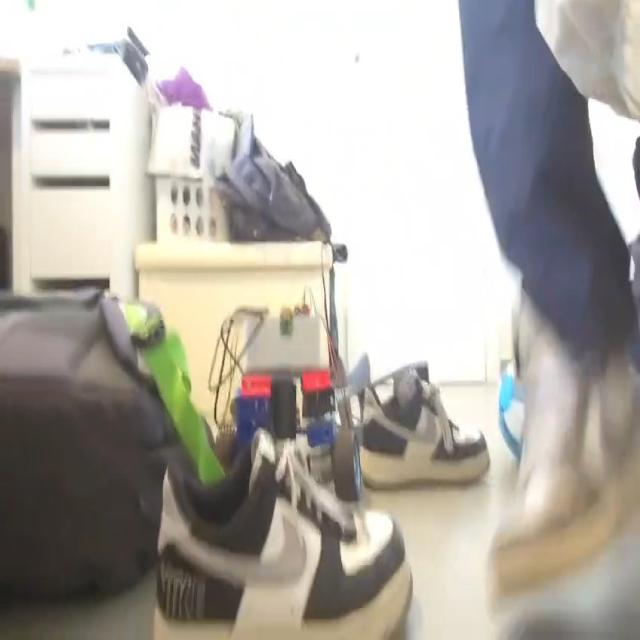Robot: (214, 305, 362, 504)
